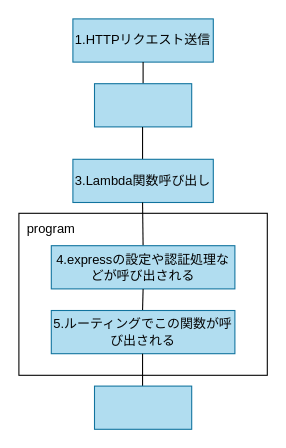
Some shapes in this 286 by 448 pixel diagram are drawn without their labels. Each missing label, with the centre of its shape:
2.API Gateway: pixel 142 105
6.API Gateway: pixel 142 407
